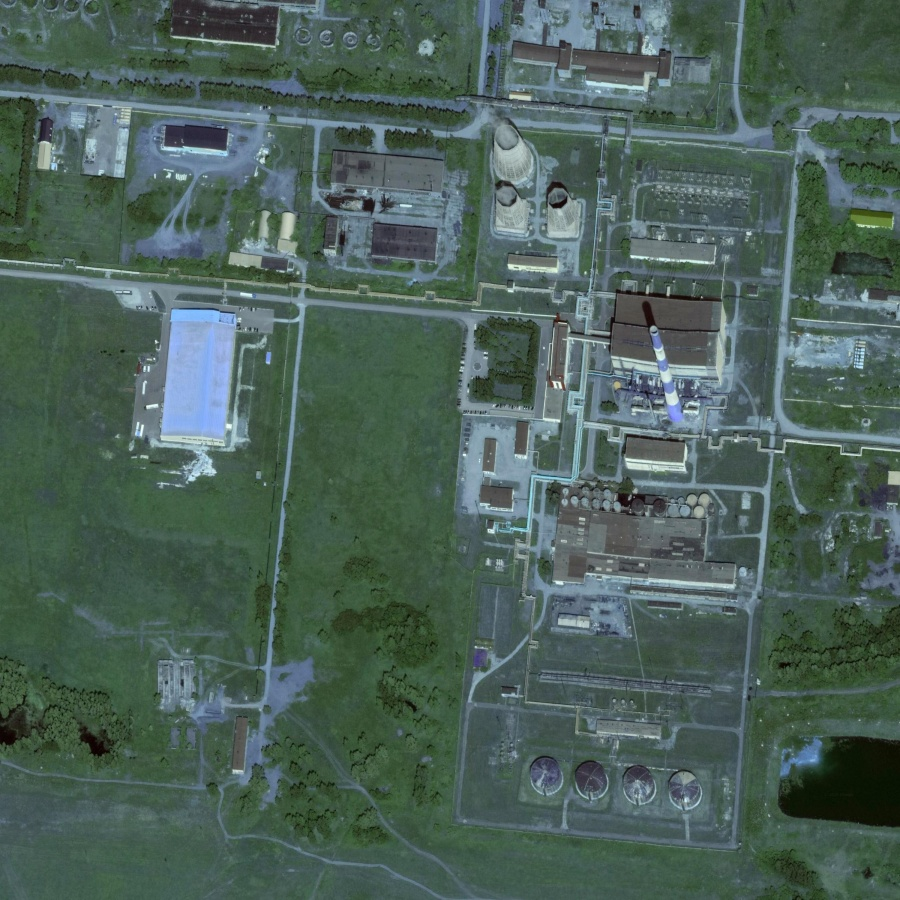PowerPlant: (464, 114, 757, 473), (523, 705, 734, 871)
